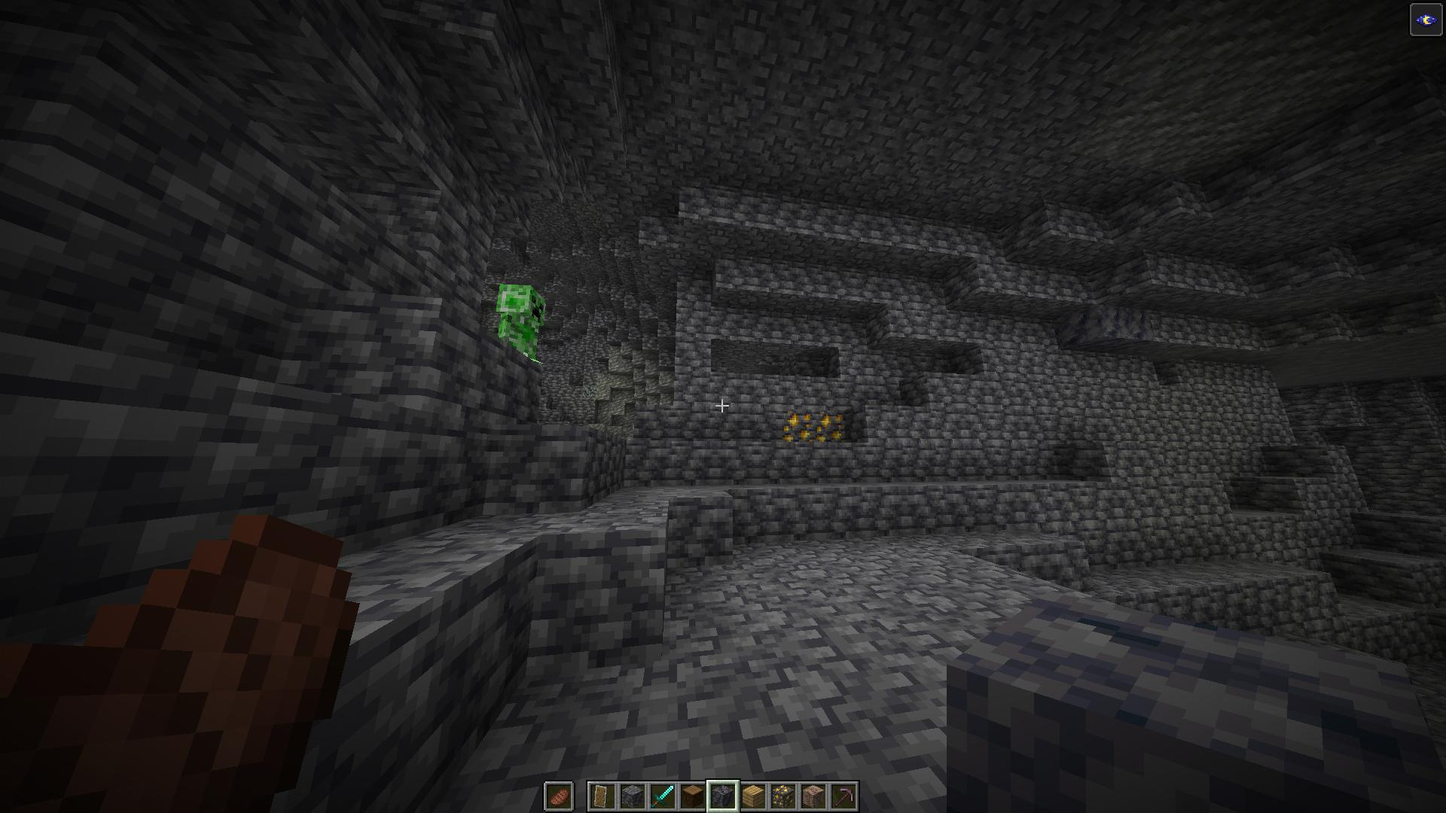gold ore: (782, 411, 847, 445)
